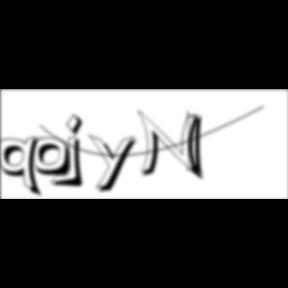N: (137, 109, 207, 183)
j: (64, 113, 90, 191)
l: (188, 108, 210, 182)
o: (32, 137, 74, 179)
q: (0, 135, 46, 200)
y: (89, 132, 143, 196)
